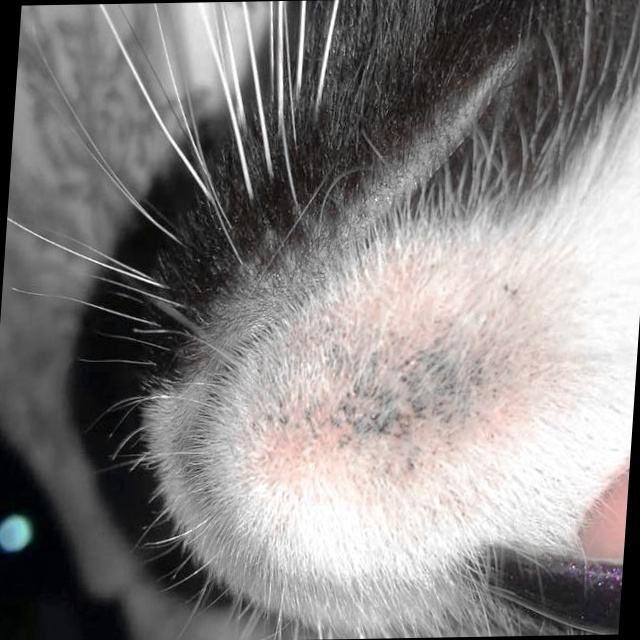acne: (239, 260, 544, 484)
